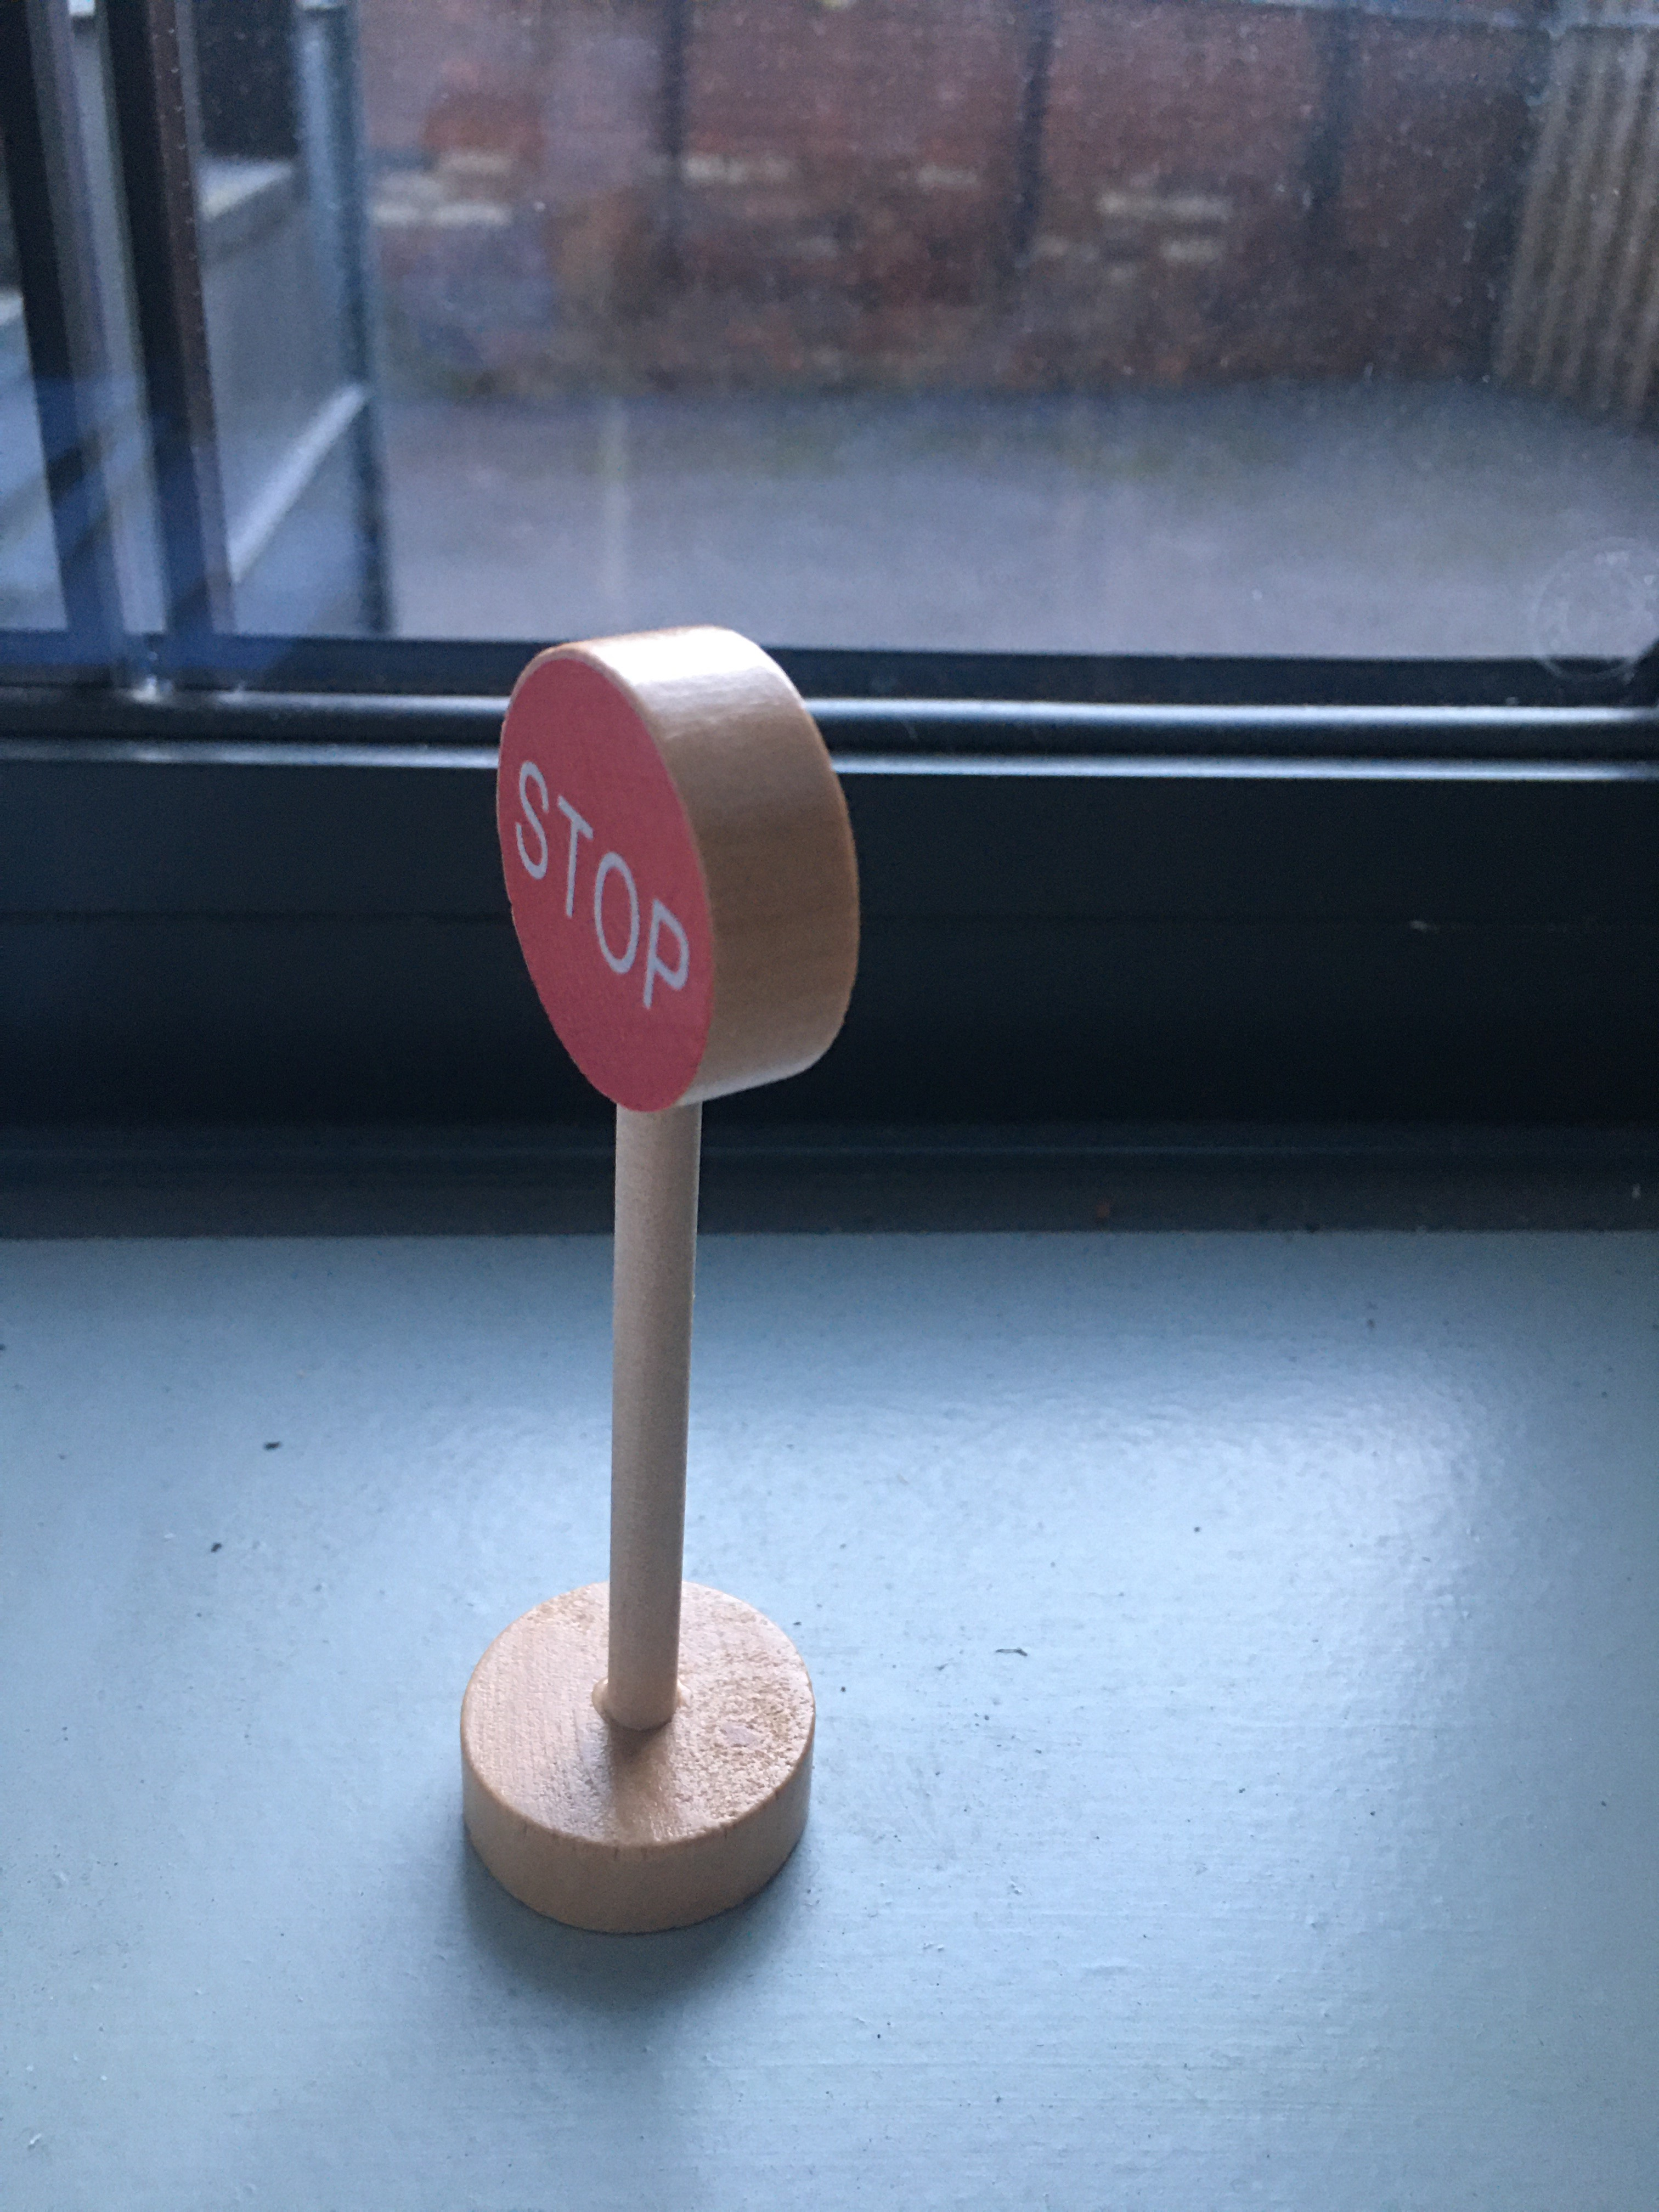Traffic_Sign_Stop: (498, 639, 721, 1111)
